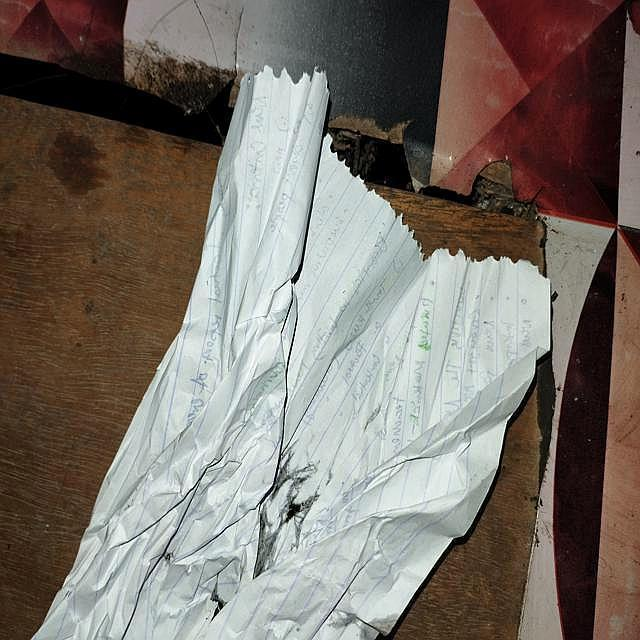Biodegradable: (32, 29, 576, 640)
